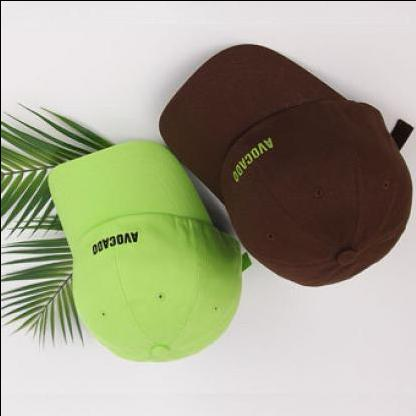cap: (150, 36, 416, 296)
